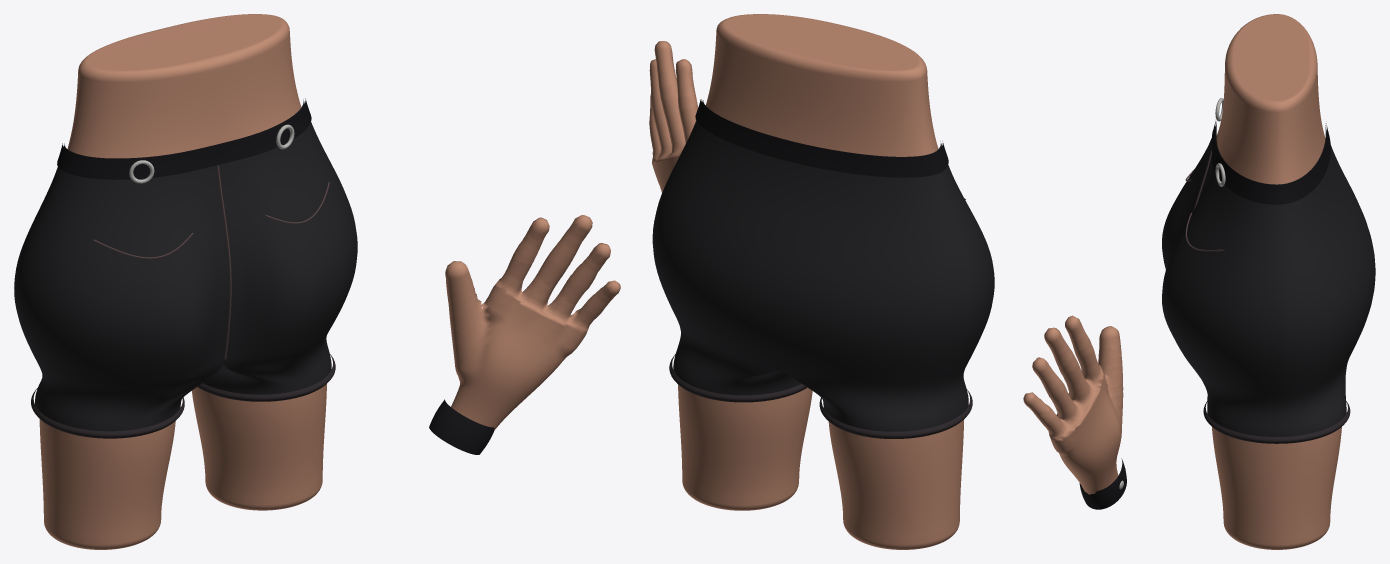
Rendered from klets-stage-v2.glb.
3 renders of one model, left to right at view 1: azimuth 30°, elevation 25°; view 2: azimuth 150°, elevation 25°; view 3: azimuth 270°, elevation 25°, orthographic. The views are drawn at different scales.
Parts seen in each view (by area): view 1: Garment, Skin, Hand, Cuff; view 2: Garment, Skin, Hand; view 3: Garment, Skin, Hand, Cuff.
Part boxes in pixels (x1=…): Garment: x1=14, y1=98, x2=357, y2=438; Skin: x1=39, y1=14, x2=326, y2=549; Hand: x1=445, y1=215, x2=620, y2=430; Cuff: x1=429, y1=399, x2=494, y2=454; Garment: x1=652, y1=99, x2=994, y2=438; Skin: x1=678, y1=14, x2=964, y2=549; Hand: x1=649, y1=41, x2=697, y2=192; Garment: x1=1162, y1=121, x2=1375, y2=443; Skin: x1=1212, y1=14, x2=1341, y2=549; Hand: x1=1023, y1=315, x2=1123, y2=494; Cuff: x1=1079, y1=458, x2=1126, y2=509.
Size of the model in its own units: 3.07 by 2.96 by 2.17.
